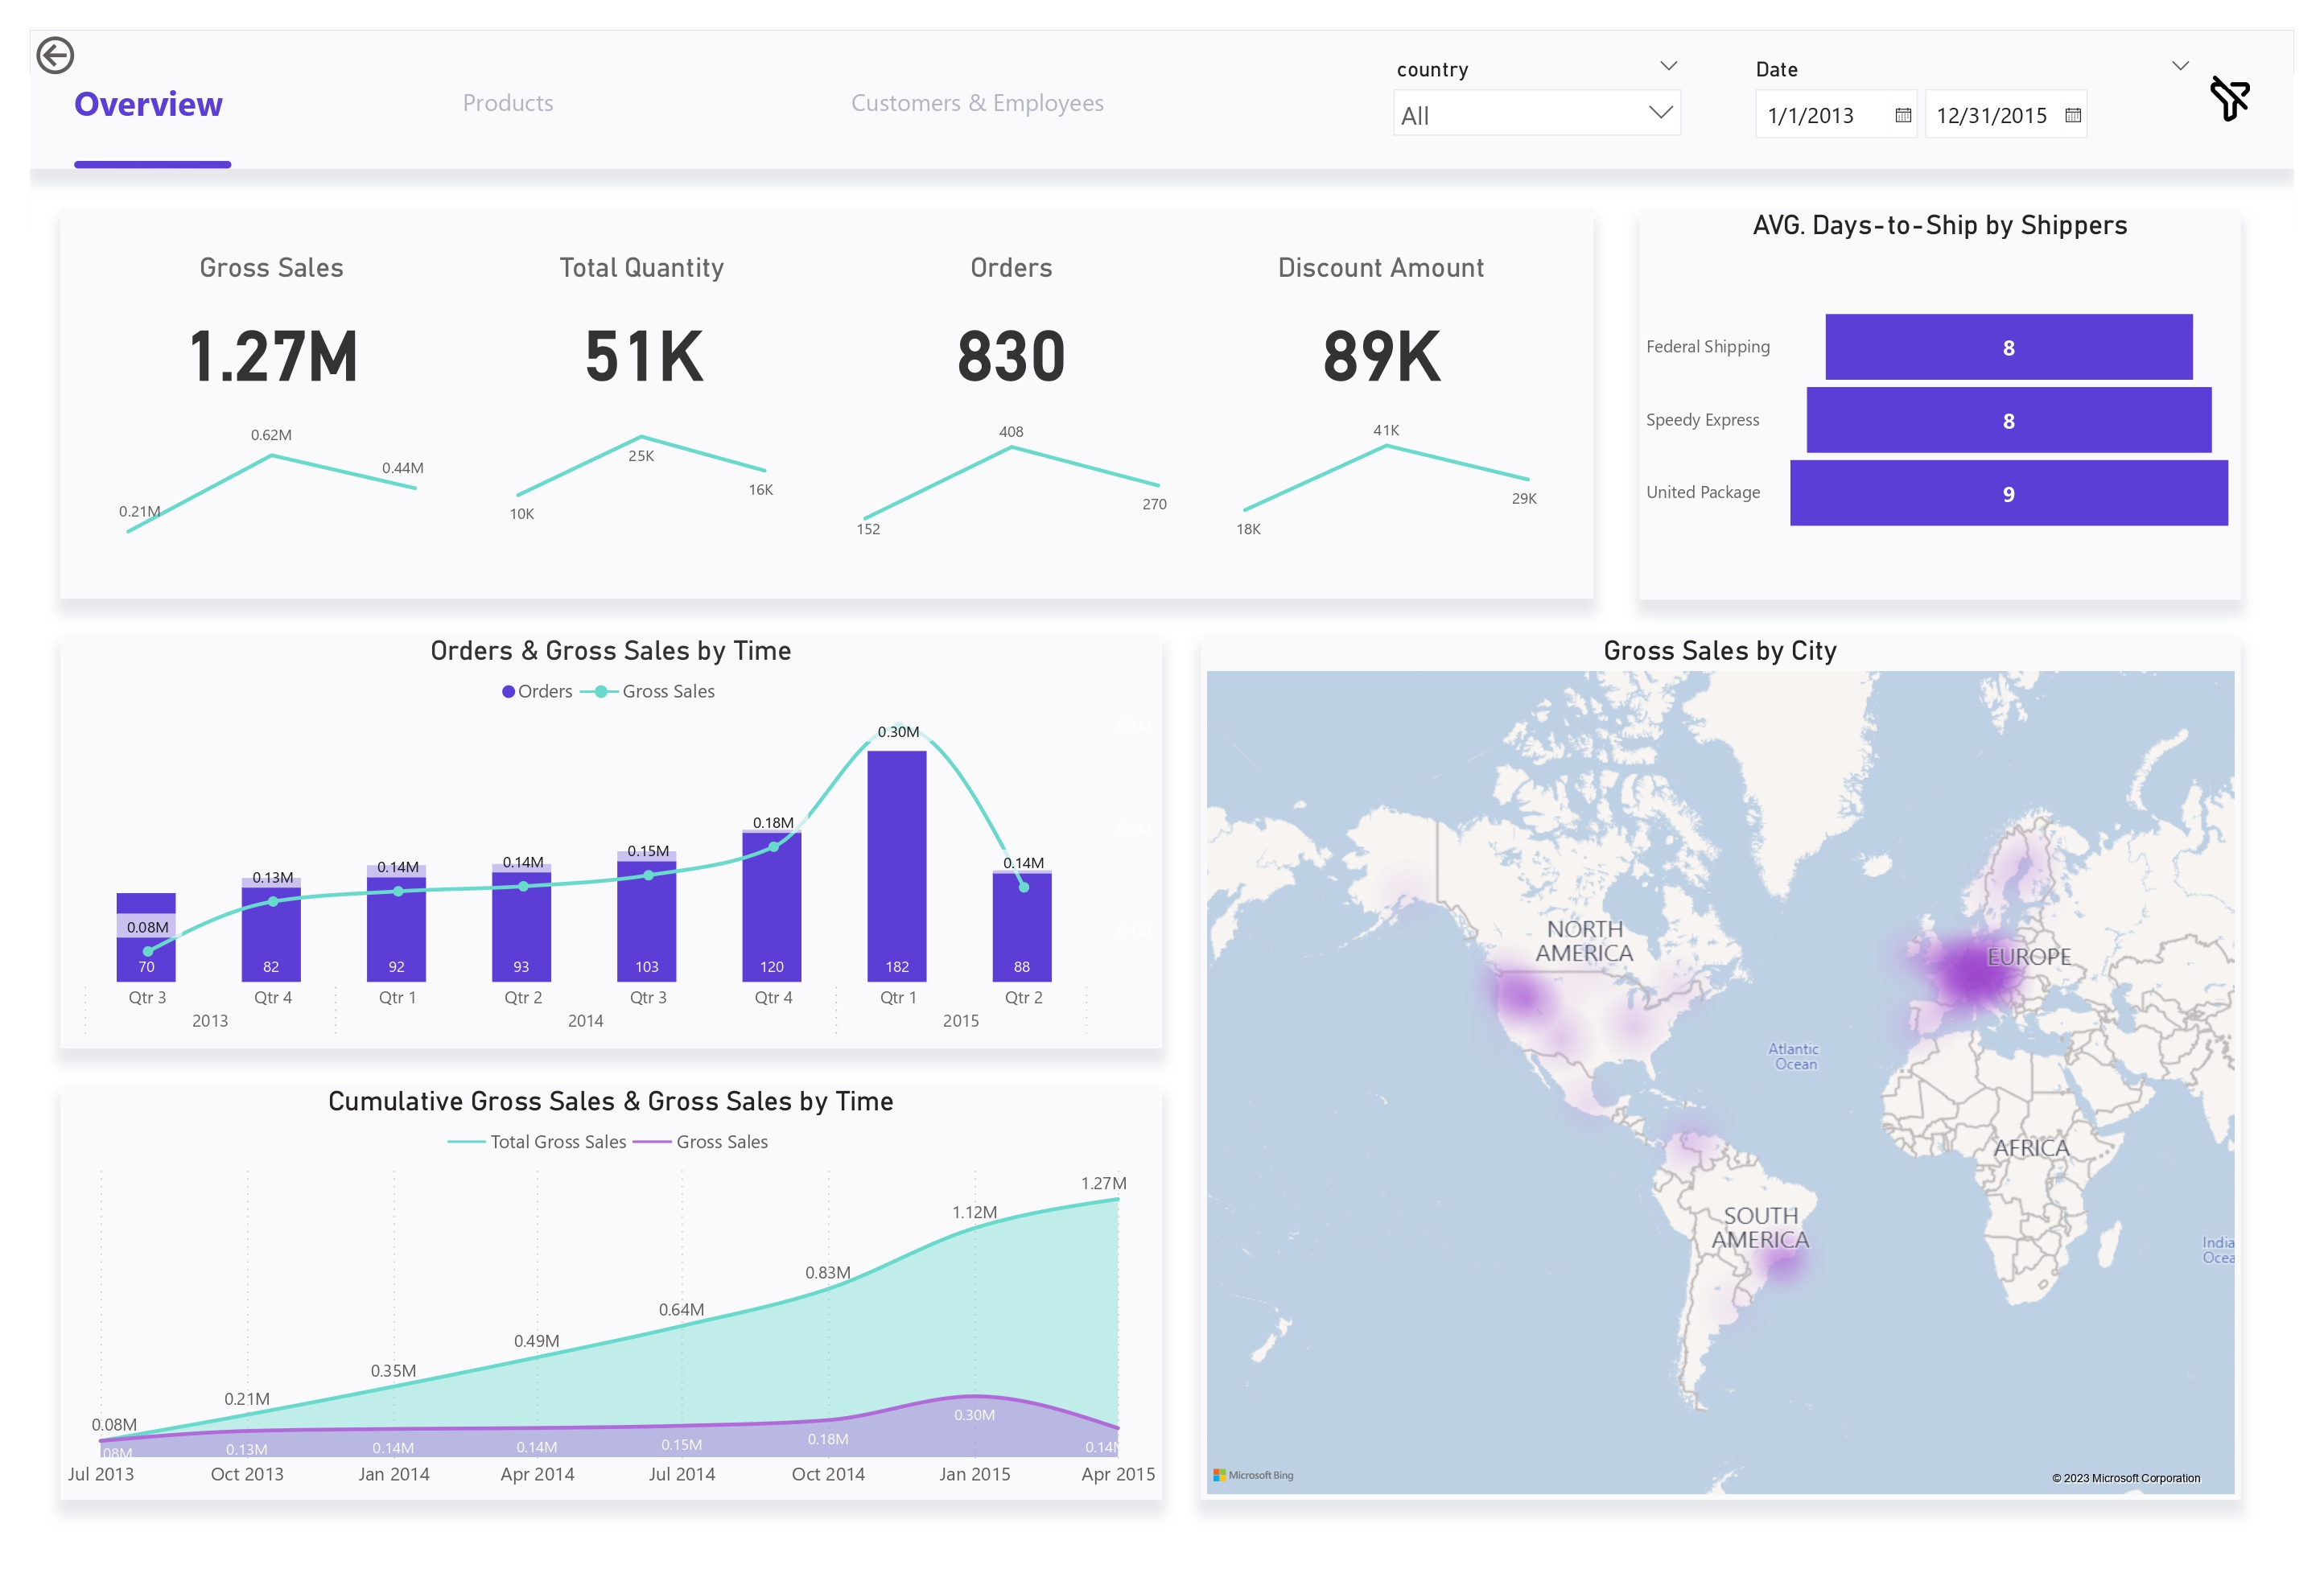

This screenshot's page, from the dashboard's own definition file:
{"tool":"powerbi","page":{"name":"Overview","canvas":[1800,1200],"ordinal":0},"visuals":[{"type":"shape","box":[23.9,141.8,1219.4,310.4],"z":0},{"type":"shape","box":[0,0,1800,110],"z":1000},{"type":"card","title":"Gross Sales","fields":{"Values":["Dax Measures (2).Gross Sales"]},"box":[59.7,176.1,264.2,132.8],"z":2000},{"type":"card","title":"Total Quantity","fields":{"Values":["Dax Measures (2).Total Quantity"]},"box":[355.2,176.1,262.7,132.8],"z":3000},{"type":"card","title":"Orders","fields":{"Values":["Dax Measures (2).Orders"]},"box":[649.3,176.1,262.7,132.8],"z":4000},{"type":"card","title":"Discount Amount","fields":{"Values":["Dax Measures (2).Discount Amount"]},"box":[943.3,176.1,262.7,132.8],"z":5000},{"type":"lineClusteredColumnComboChart","title":"Orders & Gross Sales by Time","fields":{"Y":["Dax Measures (2).Orders"],"Y2":["Dax Measures (2).Gross Sales"],"Category":["Dates.Date.Variation.Date Hierarchy.Year","Dates.Date.Variation.Date Hierarchy.Quarter","Dates.Date.Variation.Date Hierarchy.Month","Dates.Date.Variation.Date Hierarchy.Day"]},"box":[23.9,480.6,876.1,329.9],"z":6000},{"type":"areaChart","title":"Cumulative Gross Sales & Gross Sales by Time","fields":{"Y":["Dax Measures (2).Gross Sales running total in Date","Dax Measures (2).Gross Sales"],"Category":["Dates.Date.Variation.Date Hierarchy.Year","Dates.Date.Variation.Date Hierarchy.Quarter"]},"box":[23.9,838.8,876.1,329.9],"z":7000},{"type":"map","title":"Gross Sales by City","fields":{"Category":["customers.city","customers.country"],"Size":["Dax Measures (2).Gross Sales"]},"box":[931.3,480.6,826.9,688.1],"z":8000},{"type":"shape","box":[35.2,14.6,124.5,184.5],"z":9000},{"type":"lineChart","fields":{"Y":["Dax Measures (2).Gross Sales"],"Category":["Dates.Date Hierarchy.Year"]},"box":[62.7,297,258.2,109],"z":10000},{"type":"lineChart","fields":{"Y":["Dax Measures (2).Total Quantity"],"Category":["Dates.Date Hierarchy.Year"]},"box":[373.1,295.5,225.4,109],"z":11000},{"type":"lineChart","fields":{"Y":["Dax Measures (2).Orders"],"Category":["Dates.Date Hierarchy.Year"]},"box":[649.3,297,262.7,109],"z":12000},{"type":"lineChart","fields":{"Y":["Dax Measures (2).Discount Amount"],"Category":["Dates.Year"]},"box":[950.7,297,255.2,109],"z":13000},{"type":"funnel","title":"AVG. Days-to-Ship by Shippers","fields":{"Y":["Dax Measures (2).AVG. Days To Ship"],"Category":["shippers.companyName"]},"box":[1280.3,141.6,477.4,310.9],"z":14000},{"type":"slicer","fields":{"Values":["Dates.Date"]},"box":[1359.1,16.1,370.8,162],"z":15000},{"type":"image","box":[1709,31.3,80.6,50.7],"z":16000},{"type":"slicer","fields":{"Values":["customers.country"]},"box":[1074.5,16.1,248.2,162],"z":17000},{"type":"actionButton","box":[0,0,100,40],"z":18000},{"type":"pageNavigator","box":[35.2,30.8,928.6,51.3],"z":19000}]}

Visuals, with their boxes on the page's 1800x1200 design canvas (x1, y1, x2, y2). These are canvas units, not pixel positions in the 2324x1569 screenshot, which may show the page scaled, cropped or inside an application window:
shape: [x1=24, y1=142, x2=1243, y2=452]
shape: [x1=0, y1=0, x2=1800, y2=110]
"Gross Sales" card: [x1=60, y1=176, x2=324, y2=309]
"Total Quantity" card: [x1=355, y1=176, x2=618, y2=309]
"Orders" card: [x1=649, y1=176, x2=912, y2=309]
"Discount Amount" card: [x1=943, y1=176, x2=1206, y2=309]
"Orders & Gross Sales by Time" lineClusteredColumnComboChart: [x1=24, y1=481, x2=900, y2=810]
"Cumulative Gross Sales & Gross Sales by Time" areaChart: [x1=24, y1=839, x2=900, y2=1169]
"Gross Sales by City" map: [x1=931, y1=481, x2=1758, y2=1169]
shape: [x1=35, y1=15, x2=160, y2=199]
lineChart - Dax Measures (2).Gross Sales x Dates.Date Hierarchy.Year: [x1=63, y1=297, x2=321, y2=406]
lineChart - Dax Measures (2).Total Quantity x Dates.Date Hierarchy.Year: [x1=373, y1=296, x2=598, y2=404]
lineChart - Dax Measures (2).Orders x Dates.Date Hierarchy.Year: [x1=649, y1=297, x2=912, y2=406]
lineChart - Dax Measures (2).Discount Amount x Dates.Year: [x1=951, y1=297, x2=1206, y2=406]
"AVG. Days-to-Ship by Shippers" funnel: [x1=1280, y1=142, x2=1758, y2=452]
slicer - Dates.Date: [x1=1359, y1=16, x2=1730, y2=178]
image: [x1=1709, y1=31, x2=1790, y2=82]
slicer - customers.country: [x1=1074, y1=16, x2=1323, y2=178]
actionButton: [x1=0, y1=0, x2=100, y2=40]
pageNavigator: [x1=35, y1=31, x2=964, y2=82]
